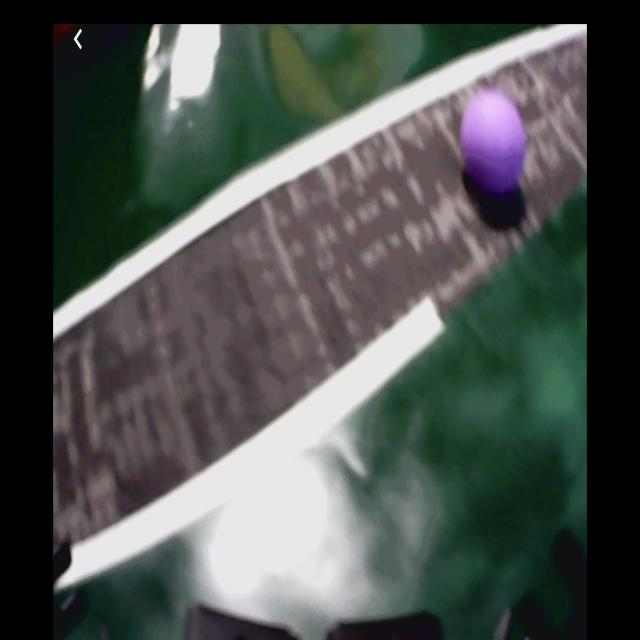ball: (461, 91, 526, 194)
